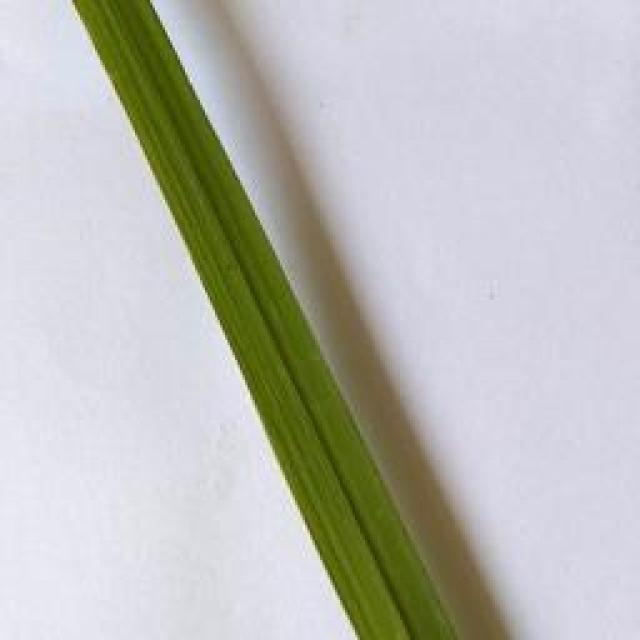Healthy-Plant: (75, 0, 460, 640)
